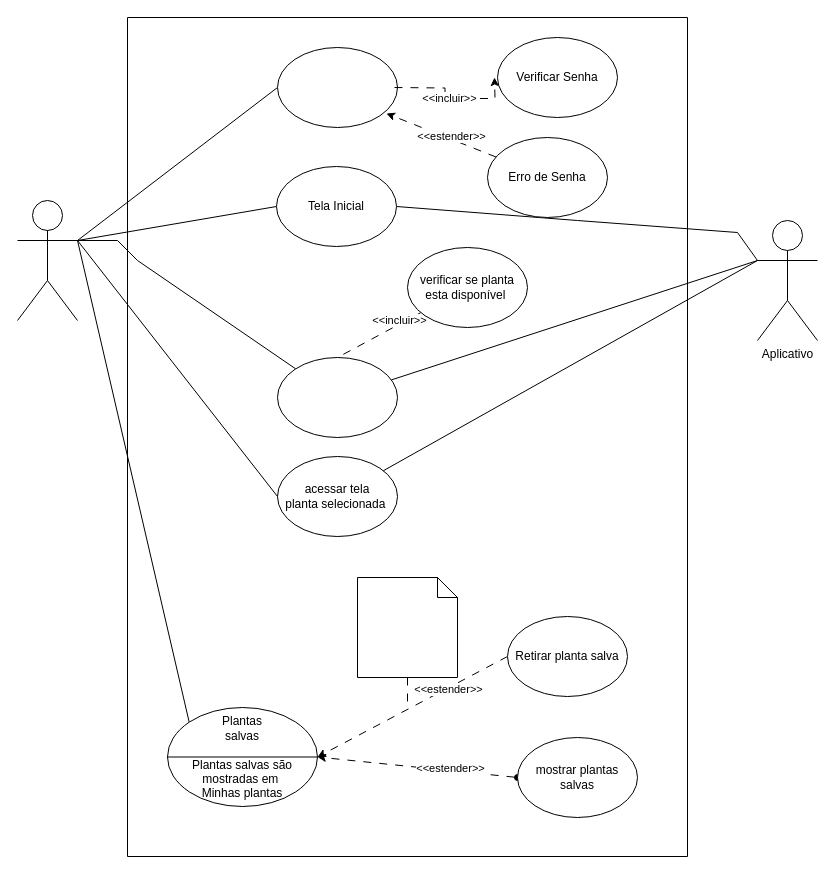
This 835x882 diagram has some shape labels left out. The centre of each missing label's shape, as x and y in pixels:
"Caso o usuario desista de criar uma planta" goes at point (407, 627).
"lOGIN" goes at point (337, 87).
"Pesquisar planta" goes at point (337, 397).
"Usuário" goes at point (47, 260).
